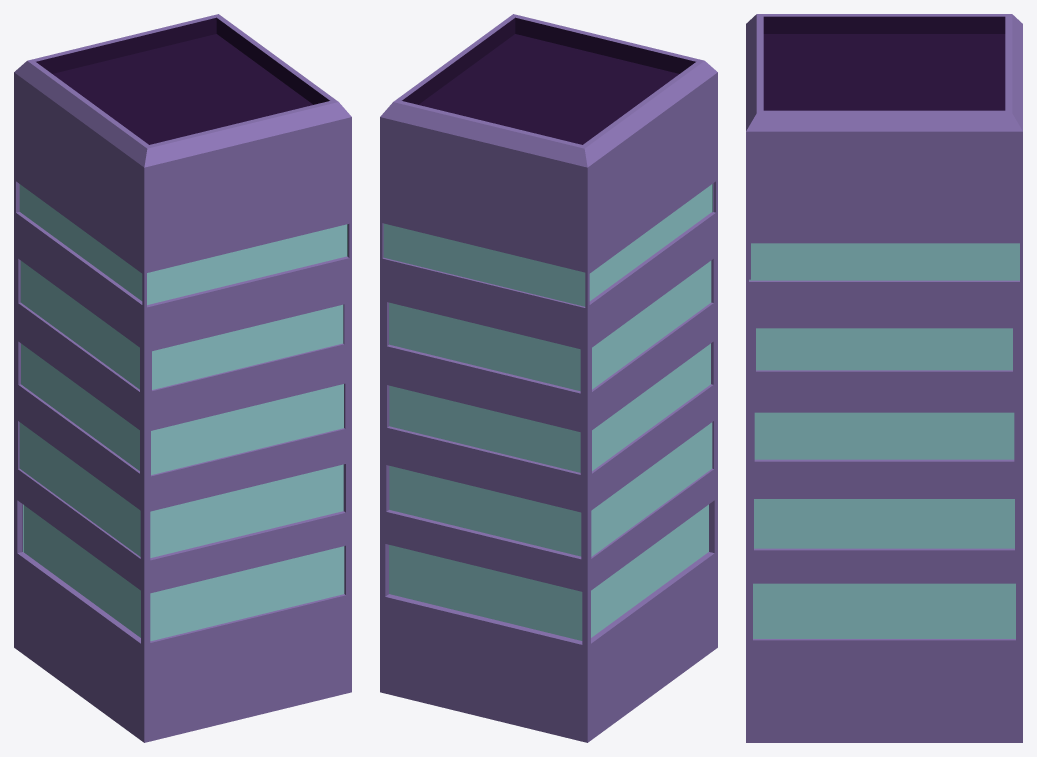
The model's file is bina_002.fbx.
3 renders of one model, left to right at view 1: azimuth 30°, elevation 25°; view 2: azimuth 150°, elevation 25°; view 3: azimuth 270°, elevation 25°, orthographic. The views are drawn at different scales.
Visible parts, largest first — view 1: Cube.002; view 2: Cube.002; view 3: Cube.002.
Boxes of the visible parts, x1,y1,x2,y2 form: Cube.002: [14, 14, 351, 742]; Cube.002: [380, 14, 717, 742]; Cube.002: [746, 14, 1022, 742].
Bounding box in the file's own units: 280 × 758 × 304.
